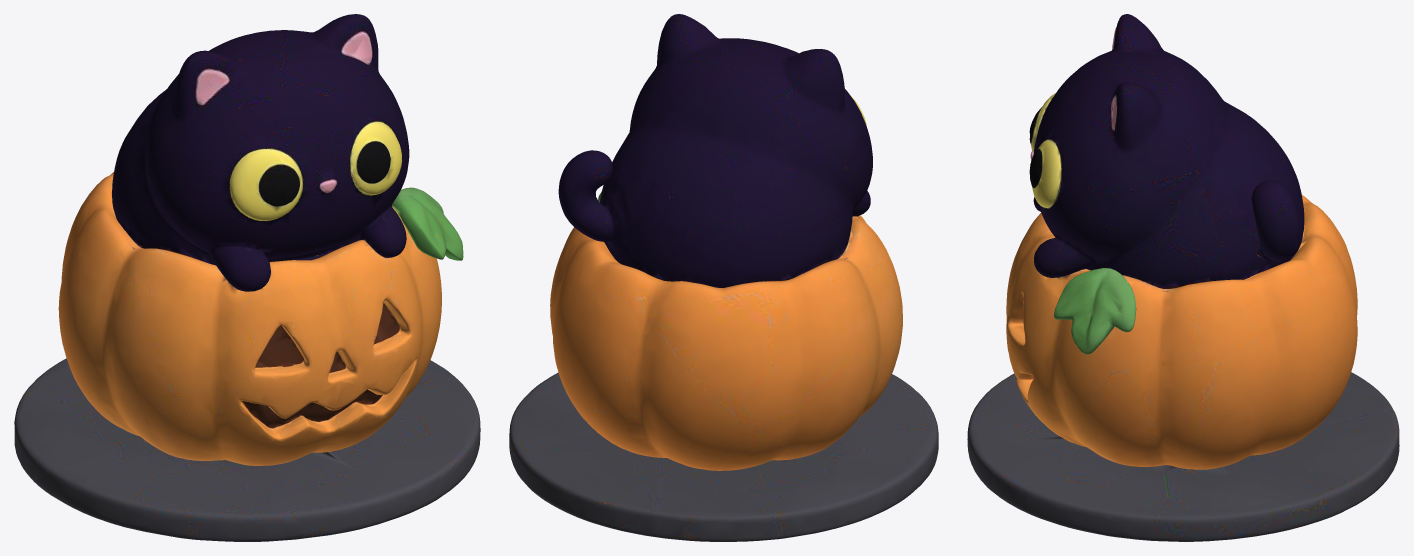
File: halloween-pumpkin-cat.glb
3 views of the same model, side by side, from view 1: azimuth 30°, elevation 25°; view 2: azimuth 150°, elevation 25°; view 3: azimuth 270°, elevation 25° (orthographic). The views are drawn at different scales.
Bounding box in the file's own units: 1.85 × 1.9 × 1.85.
Materials: 1 (1 with a texture image).
